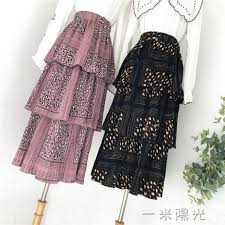C_skirt: (7, 10, 116, 197), (89, 22, 185, 210)
